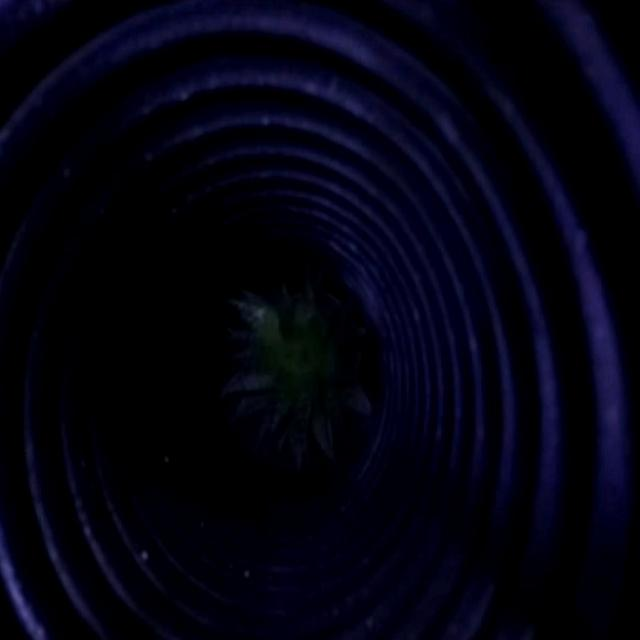leaf: (230, 284, 370, 465)
